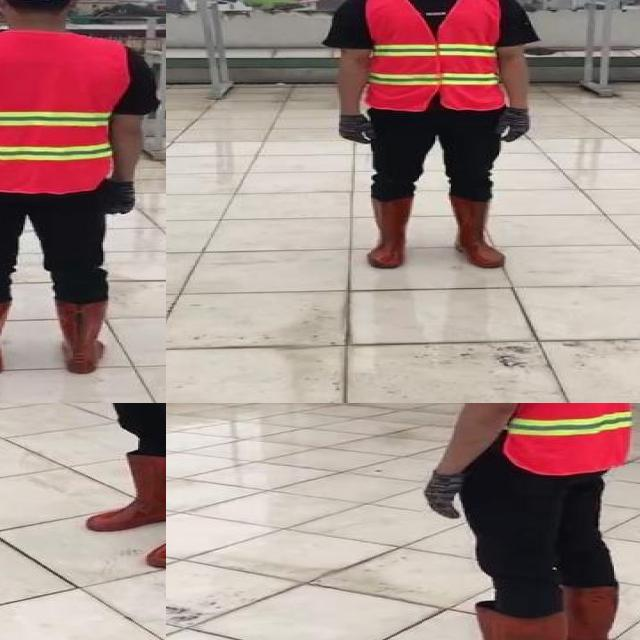boots: (516, 572, 622, 640), (83, 454, 166, 533), (425, 601, 566, 640), (444, 196, 511, 270), (52, 298, 114, 376), (368, 195, 408, 268)
hand_glove: (418, 471, 470, 524), (103, 178, 146, 216), (330, 113, 378, 145), (497, 108, 531, 142)
person: (315, 0, 542, 272), (0, 0, 158, 379), (415, 403, 640, 640), (62, 403, 166, 572)
vest: (0, 32, 122, 189), (366, 0, 508, 110), (459, 403, 640, 473)
